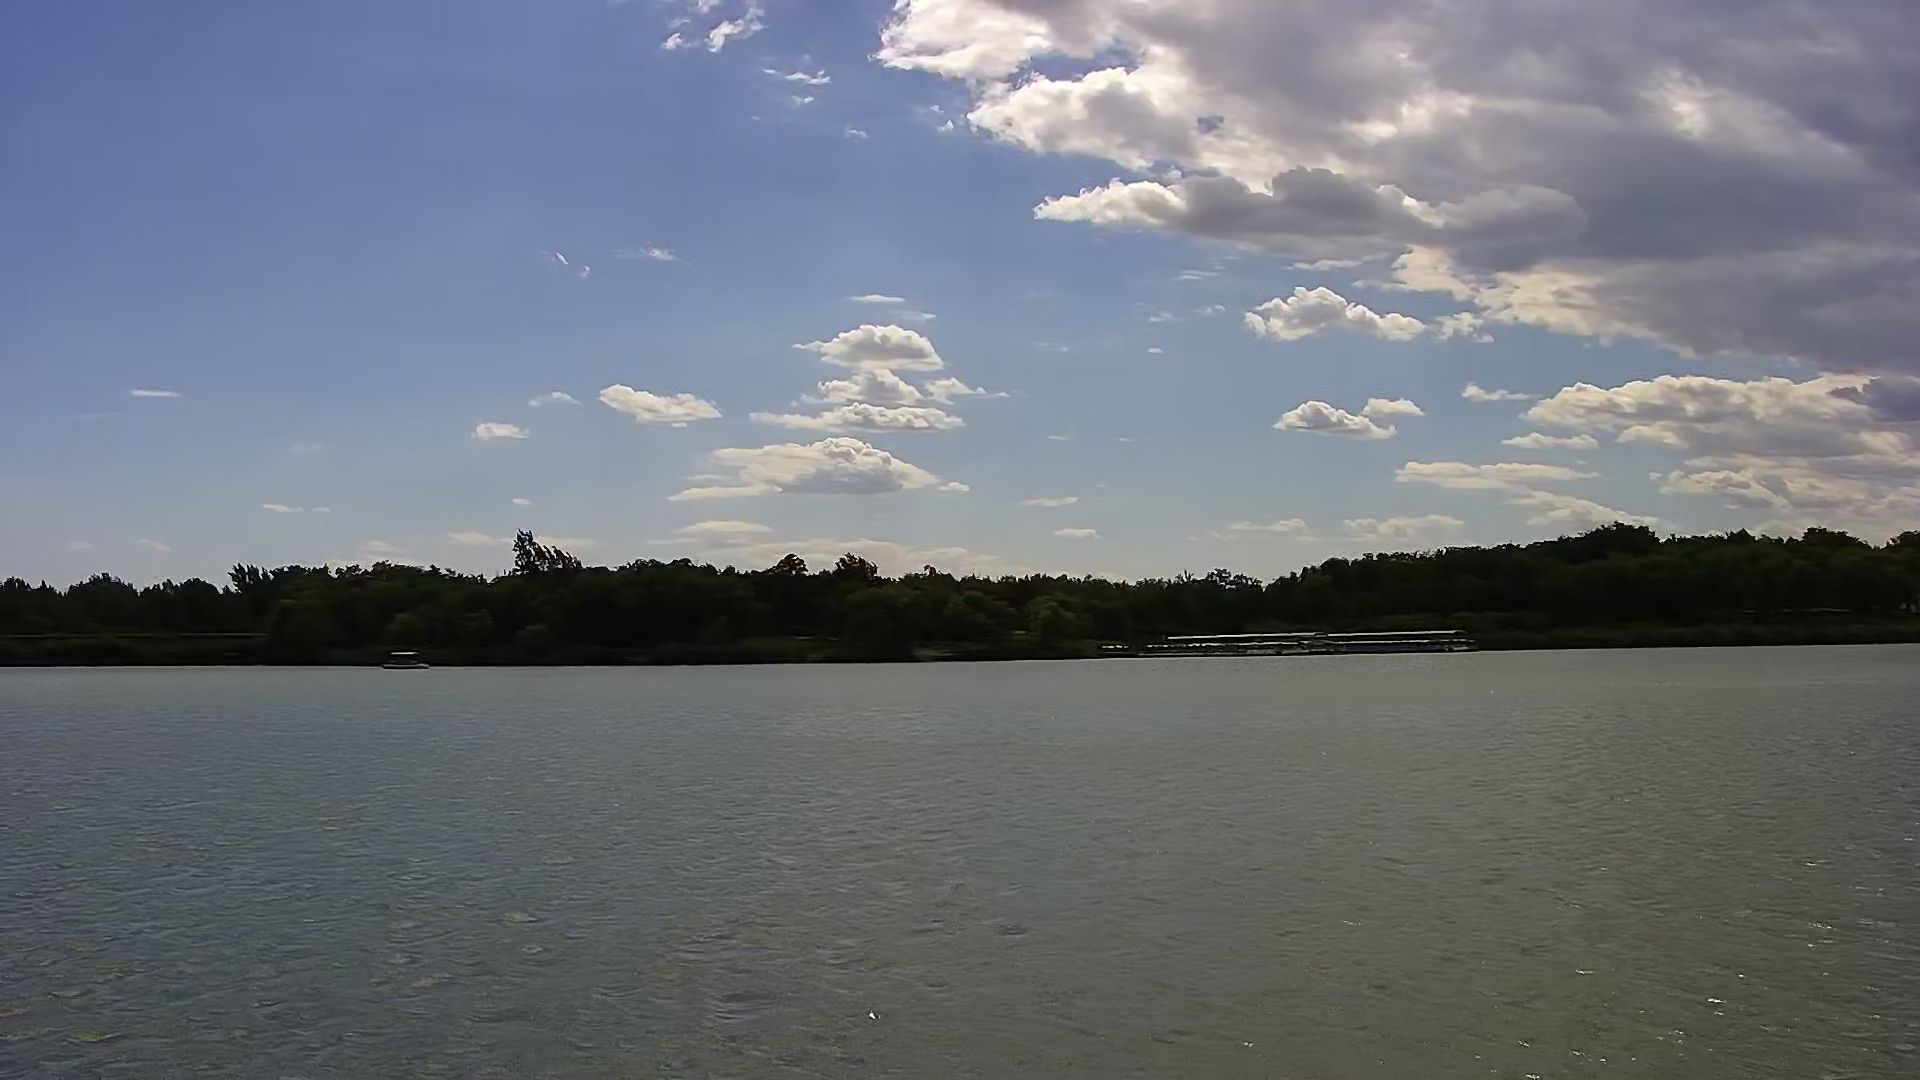boat: (376, 645, 444, 673)
harbor: (1131, 626, 1478, 659)
